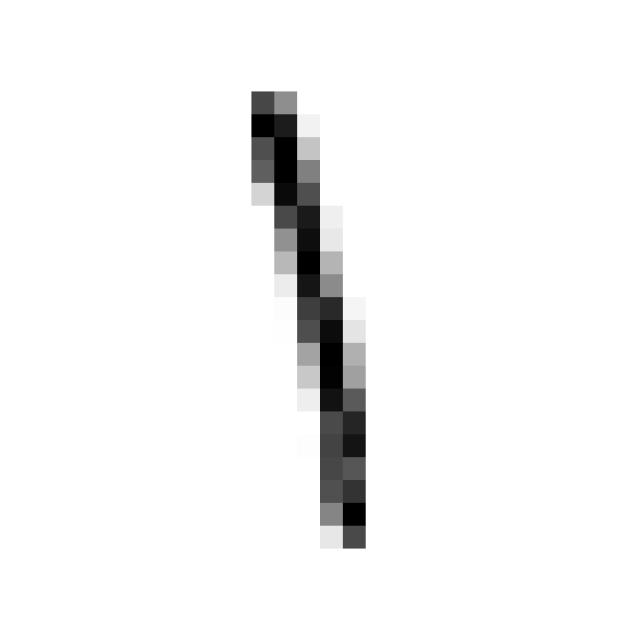1 -one-: (228, 66, 386, 562)
